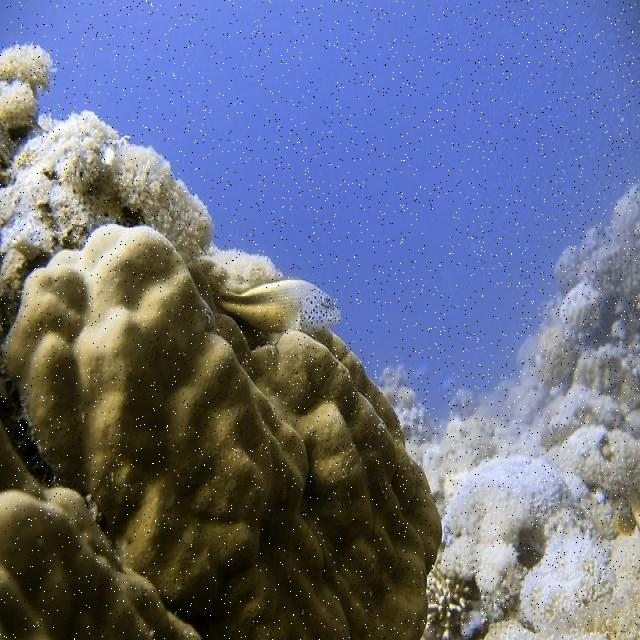fish: (207, 265, 341, 332)
reefs: (0, 222, 444, 638), (0, 41, 284, 284), (424, 566, 472, 639)
